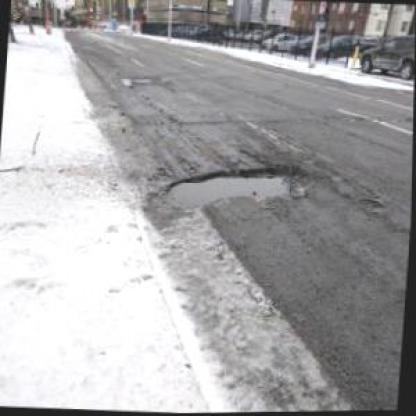pothole: (164, 160, 310, 212)
